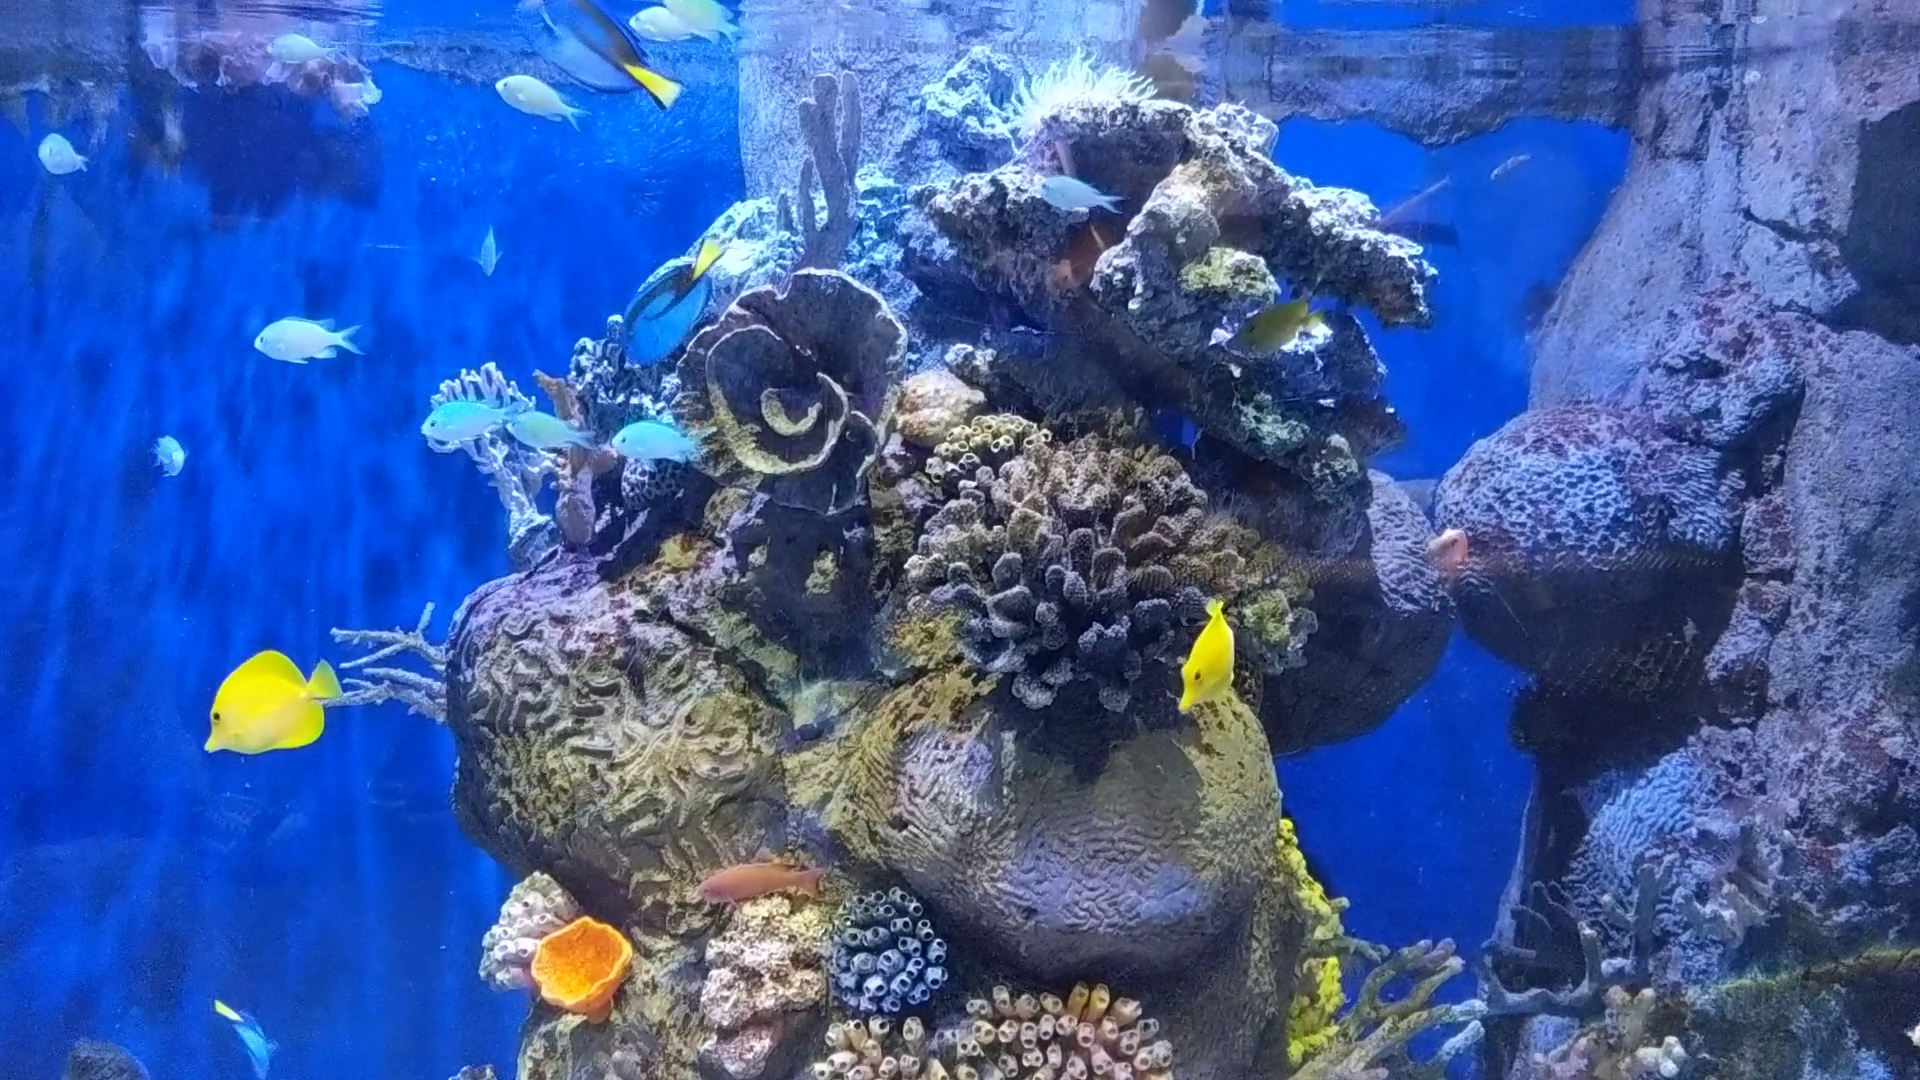blue tang surgeonfish: (502, 0, 698, 113), (607, 231, 741, 380), (208, 993, 282, 1079)
damselfish: (472, 59, 589, 146), (229, 295, 357, 375), (495, 390, 593, 472), (607, 410, 711, 487), (415, 376, 512, 454), (1023, 173, 1121, 229), (622, 0, 725, 45), (22, 119, 88, 181), (141, 429, 202, 484), (258, 26, 328, 63)
pink fish: (1416, 518, 1486, 597)
saddle butterfly fish: (186, 638, 349, 770), (1164, 580, 1240, 713)
